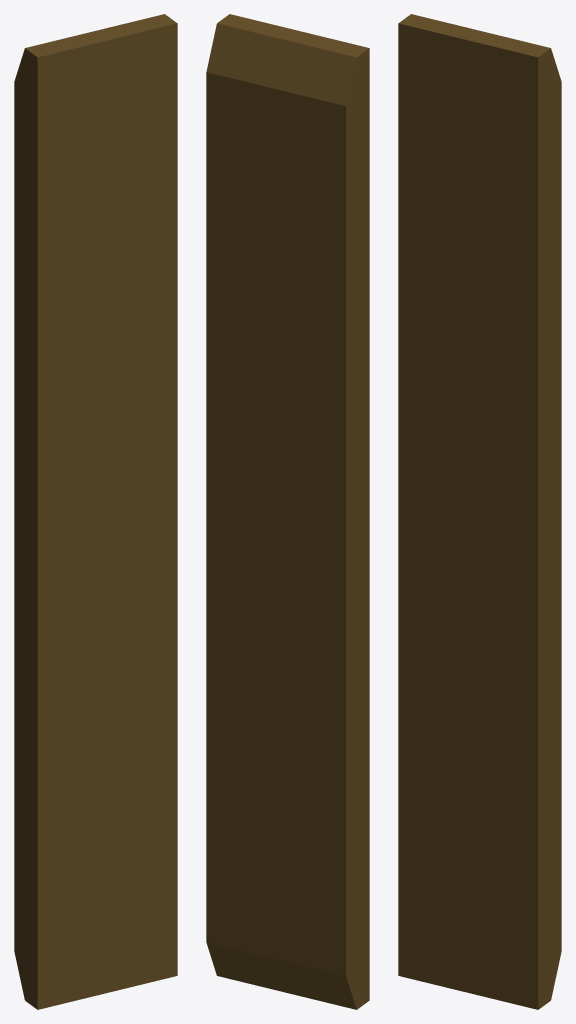
The model's file is bridge.fbx.
The picture shows the model from 3 angles, left to right: view 1: azimuth 30°, elevation 25°; view 2: azimuth 150°, elevation 25°; view 3: azimuth 330°, elevation 25°; orthographic projection.
Visible parts, largest first — view 1: BridgeBoard; view 2: BridgeBoard; view 3: BridgeBoard.
Boxes of the visible parts, <box> form: BridgeBoard: <box>14,14,177,1009</box>; BridgeBoard: <box>206,14,369,1009</box>; BridgeBoard: <box>398,14,561,1009</box>.
Size of the model in its own units: 151 by 981 by 43.53.
